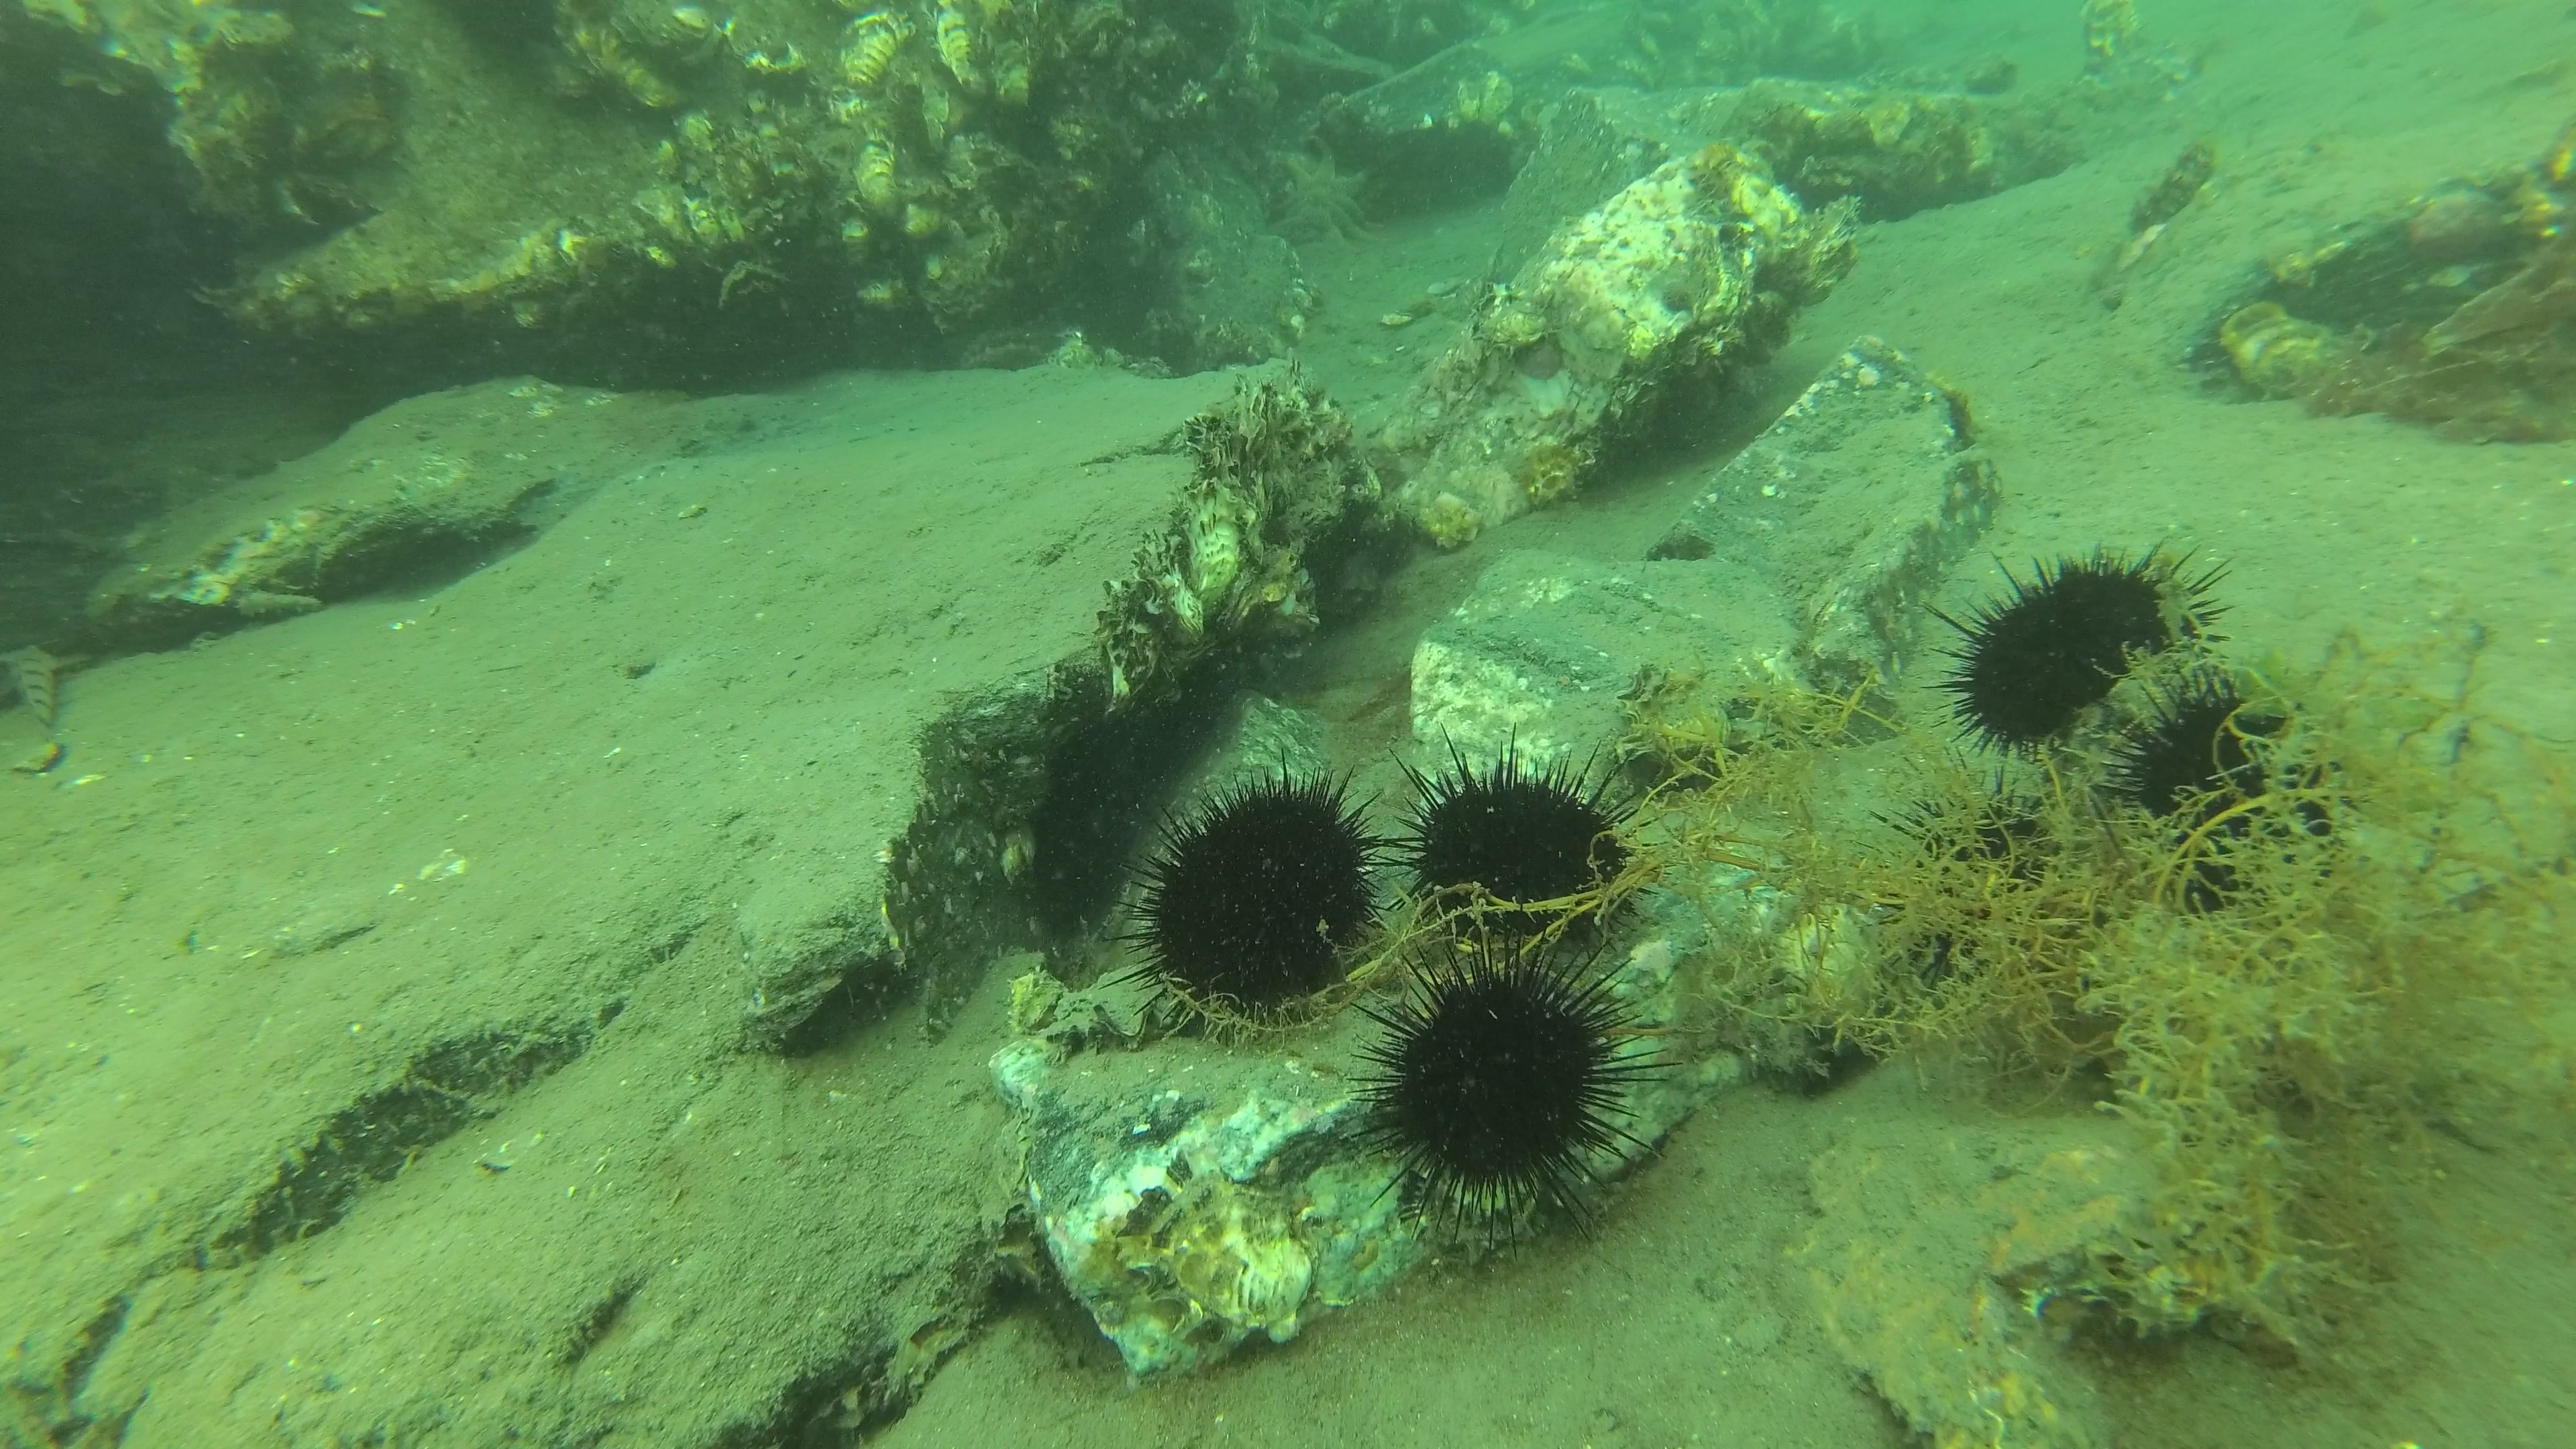echinus: (1338, 941, 1663, 1246), (1113, 764, 1403, 1030), (1925, 534, 2229, 771), (1385, 732, 1658, 968), (2100, 656, 2319, 862)
